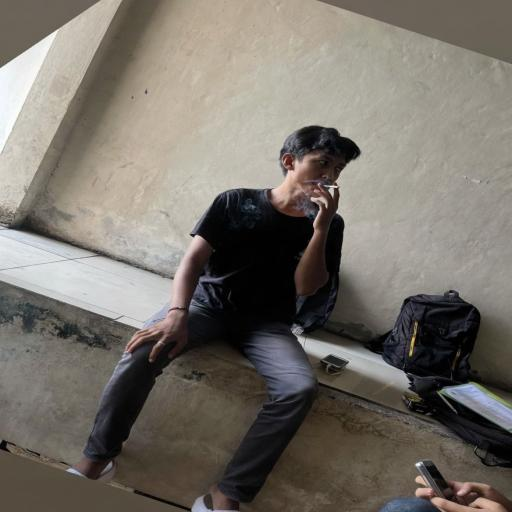merokok: (281, 161, 352, 227)
